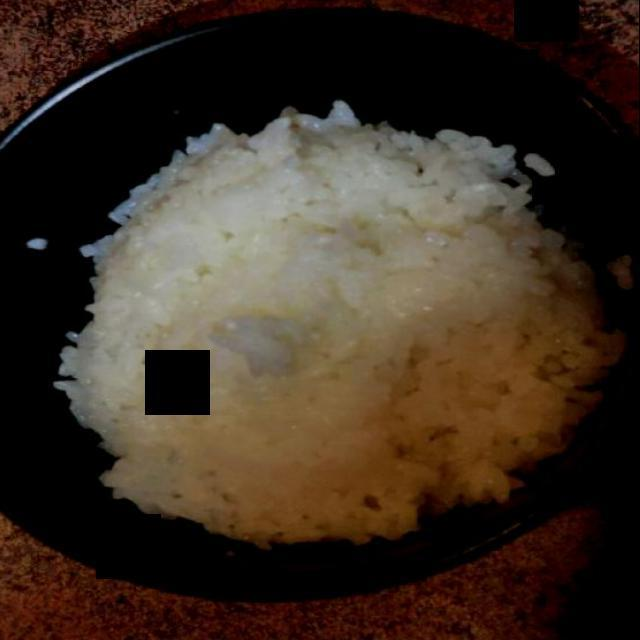rice: (54, 104, 628, 548)
